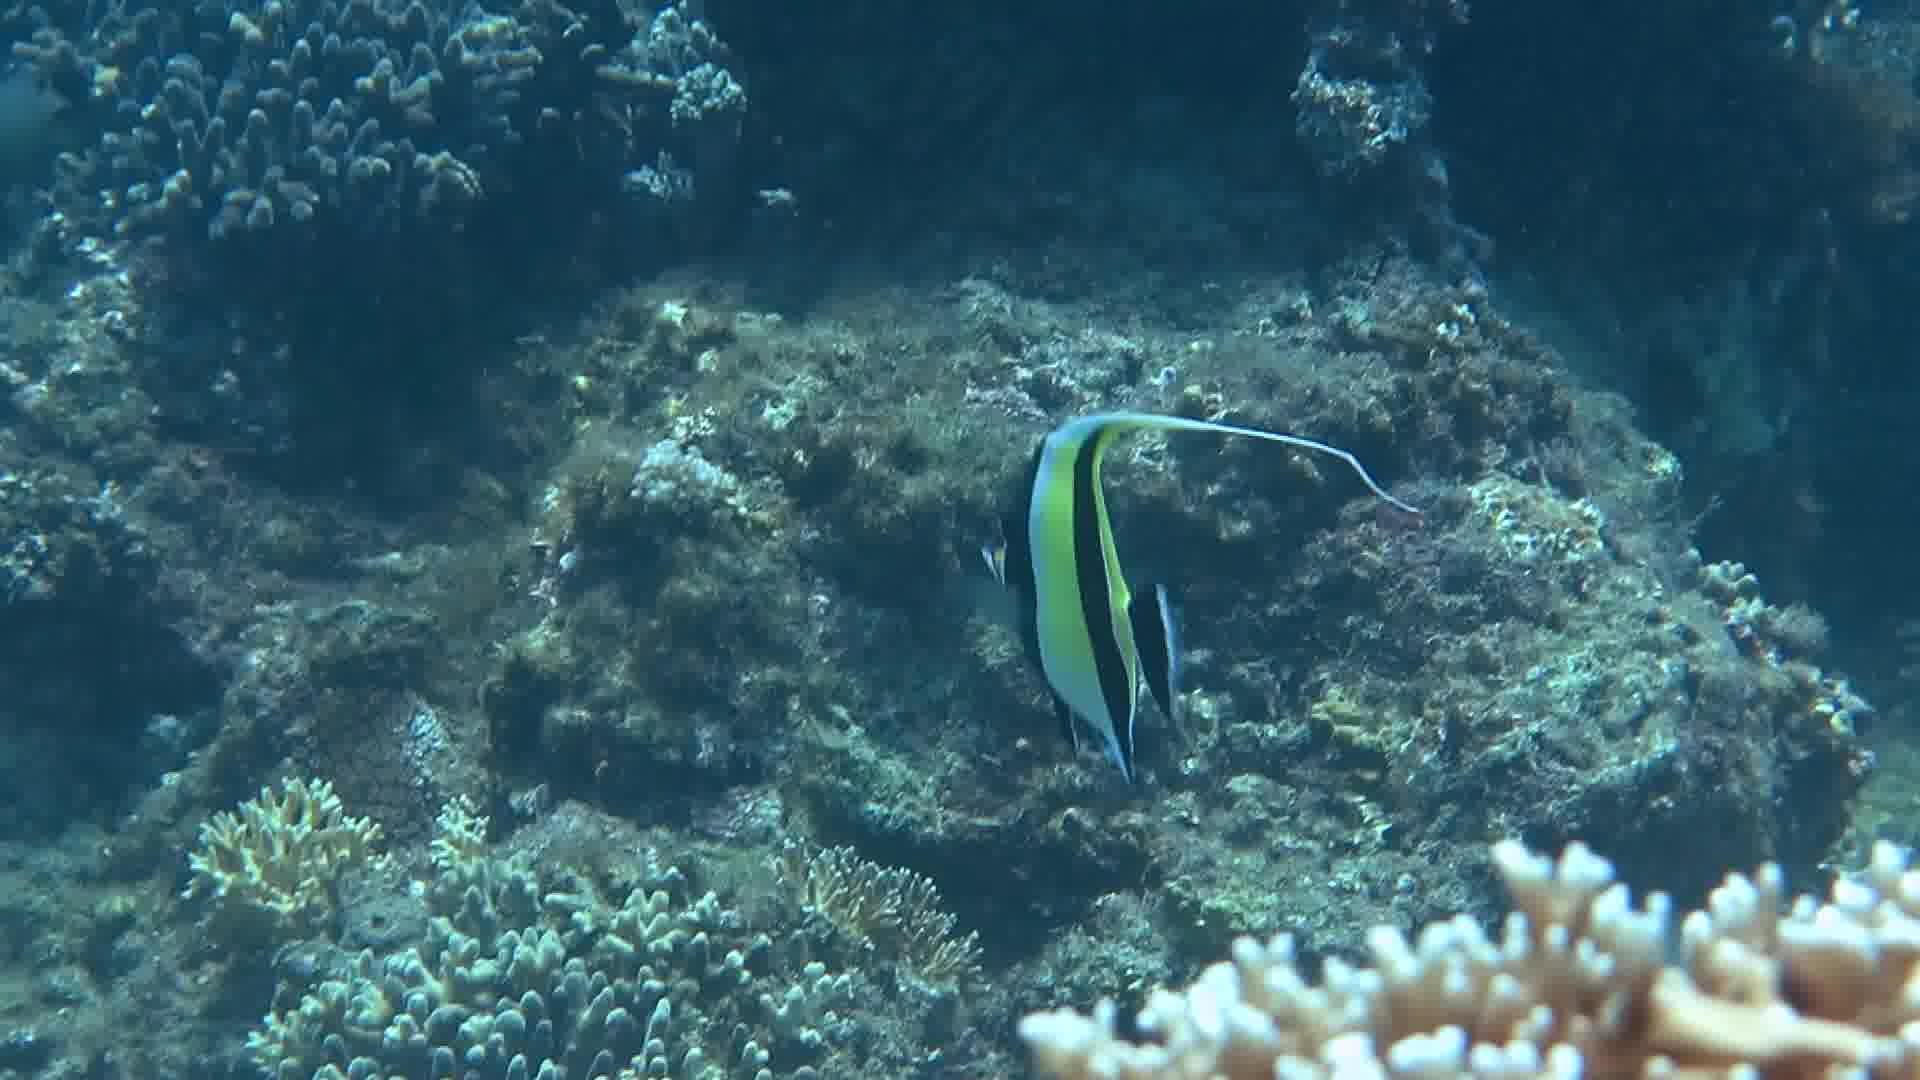Zanclus cornutus: (957, 407, 1299, 839)
